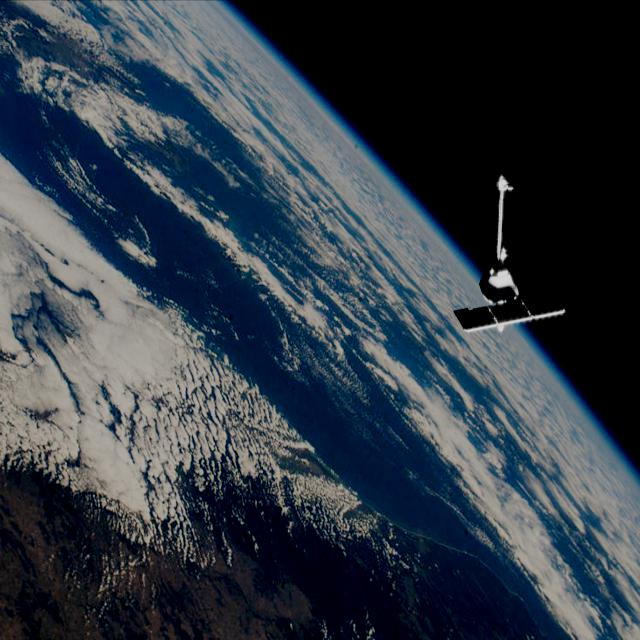satellite: (454, 163, 568, 351)
